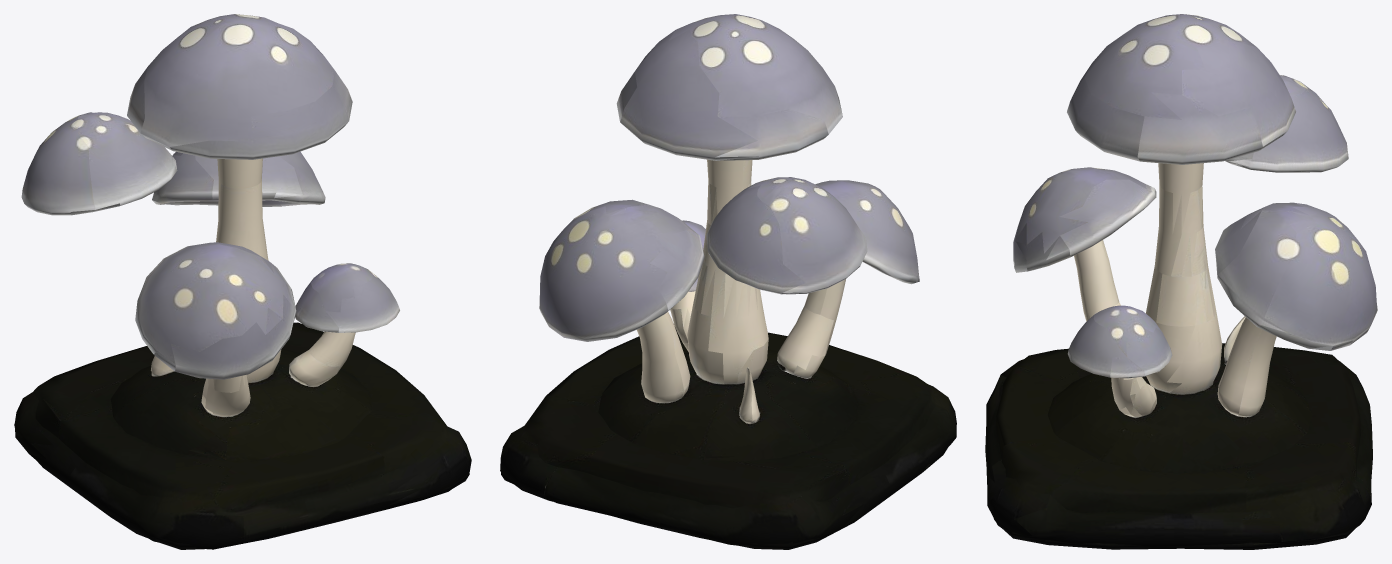
The model's file is mist_mushroom.glb.
The picture shows the model from 3 angles, left to right: view 1: azimuth 30°, elevation 25°; view 2: azimuth 150°, elevation 25°; view 3: azimuth 270°, elevation 25°; orthographic projection. The views are drawn at different scales.
Visible parts, largest first — view 1: mesh_node; view 2: mesh_node; view 3: mesh_node.
Part boxes in pixels (<box>): mesh_node: <box>14,14,471,549</box>; mesh_node: <box>500,14,956,549</box>; mesh_node: <box>985,14,1377,549</box>.
Size of the model in its own units: 0.8066 by 0.9961 by 0.7949.
Materials: 1 (1 with a texture image).
